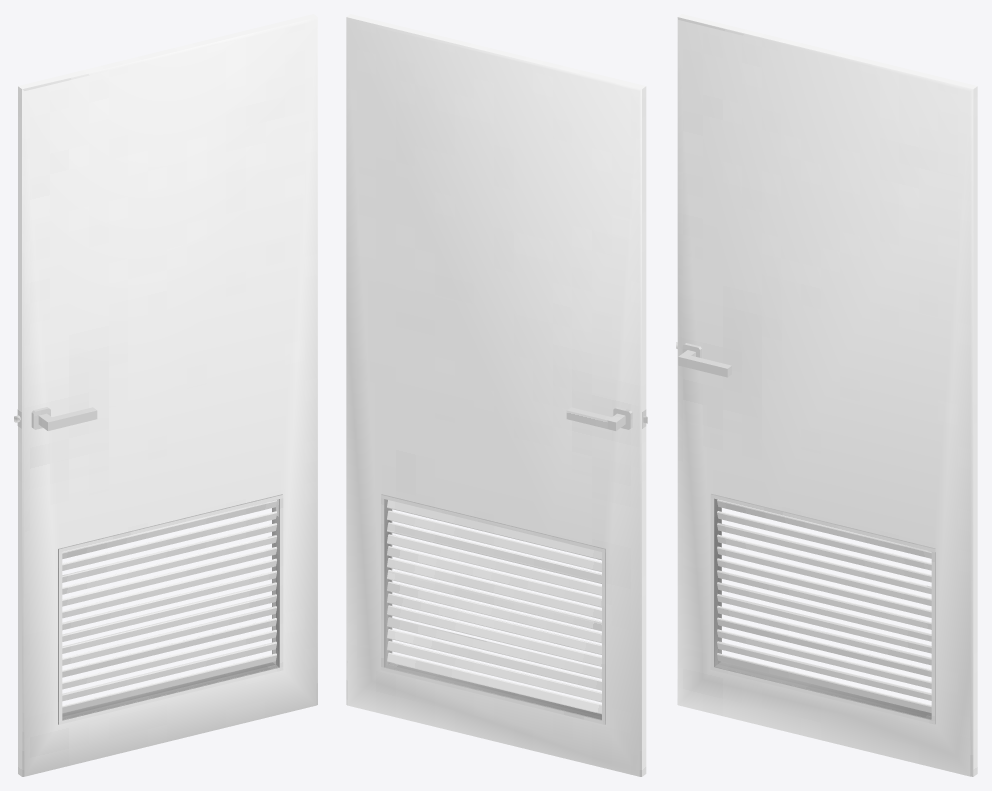
File: DoorHalfLouver.glb
3 renders of one model, left to right at view 1: azimuth 30°, elevation 25°; view 2: azimuth 150°, elevation 25°; view 3: azimuth 330°, elevation 25°, orthographic.
Visible parts, largest first — view 1: DoorHalfLouver; view 2: DoorHalfLouver; view 3: DoorHalfLouver.
Part boxes in pixels (x1,y1,x2,y2): DoorHalfLouver: (14,14,317,776); DoorHalfLouver: (346,14,647,776); DoorHalfLouver: (676,14,977,776).
Bounding box in the file's own units: 0.9286 × 2.03 × 0.1584.
Materials: 1 (1 with a texture image).
